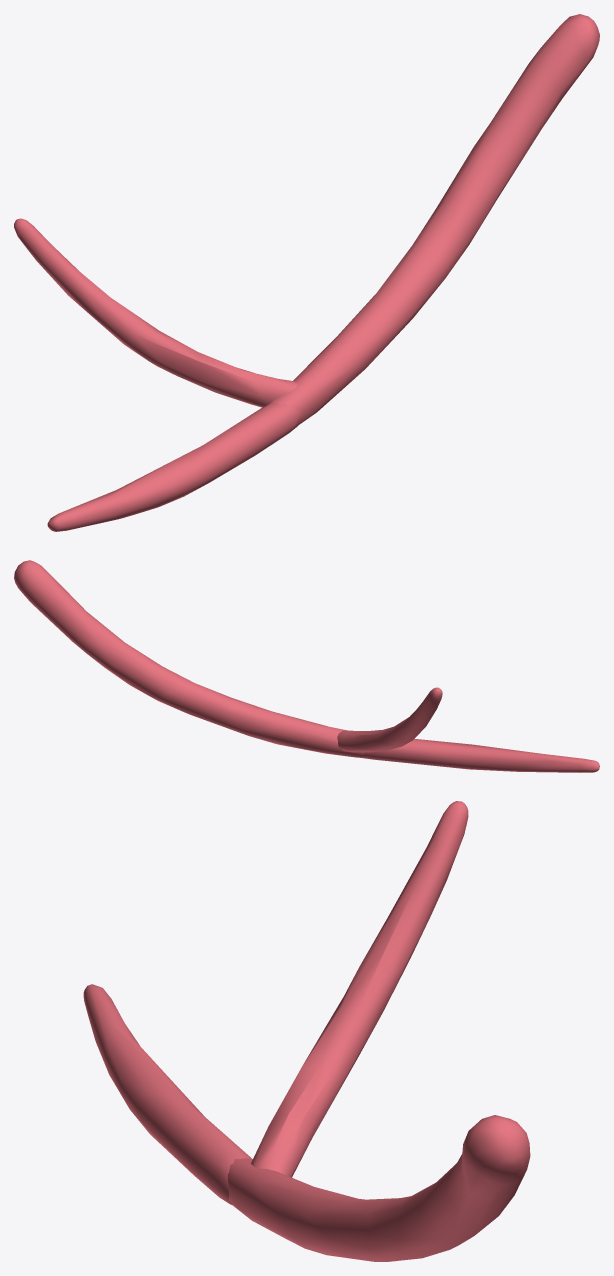
File: fma68945_cx196.glb
3 views of the same model, one above another, from view 1: azimuth 30°, elevation 25°; view 2: azimuth 150°, elevation 25°; view 3: azimuth 270°, elevation 25° (orthographic). The views are drawn at different scales.
Visible parts, largest first — view 1: FMA68945_CX196; view 2: FMA68945_CX196; view 3: FMA68945_CX196.
Part boxes in pixels (bbox=[...]): FMA68945_CX196: bbox=[14, 14, 599, 531]; FMA68945_CX196: bbox=[14, 560, 599, 772]; FMA68945_CX196: bbox=[83, 801, 530, 1261].
Size of the model in its own units: 0.0885 by 0.0317 by 0.0355.
